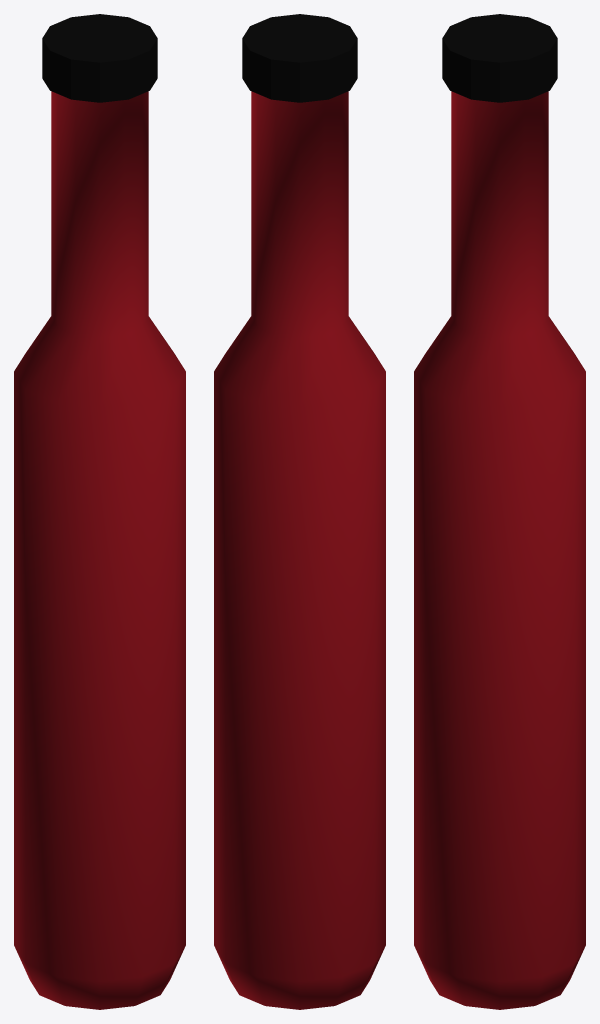
The model's file is Glass_Bottle_3.fbx.
3 renders of one model, left to right at view 1: azimuth 30°, elevation 25°; view 2: azimuth 150°, elevation 25°; view 3: azimuth 270°, elevation 25°, orthographic.
Visible parts, largest first — view 1: Cylinder.015; view 2: Cylinder.015; view 3: Cylinder.015.
Part boxes in pixels (x1,y1,x2,y2): Cylinder.015: [14, 14, 185, 1009]; Cylinder.015: [214, 14, 385, 1009]; Cylinder.015: [414, 14, 585, 1009].
Size of the model in its own units: 6.49 by 39.22 by 6.49.
